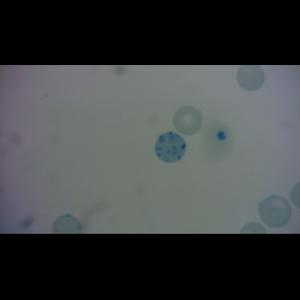aggregate reticulocyte: (154, 131, 188, 164)
erythrocyte: (171, 105, 203, 137), (236, 65, 267, 93)
punctate reticulocyte: (257, 194, 294, 229)
